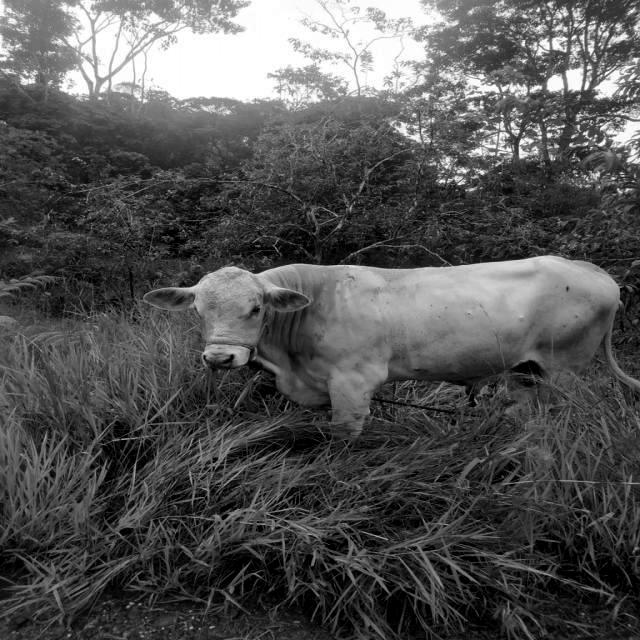COW: (145, 256, 640, 434)
